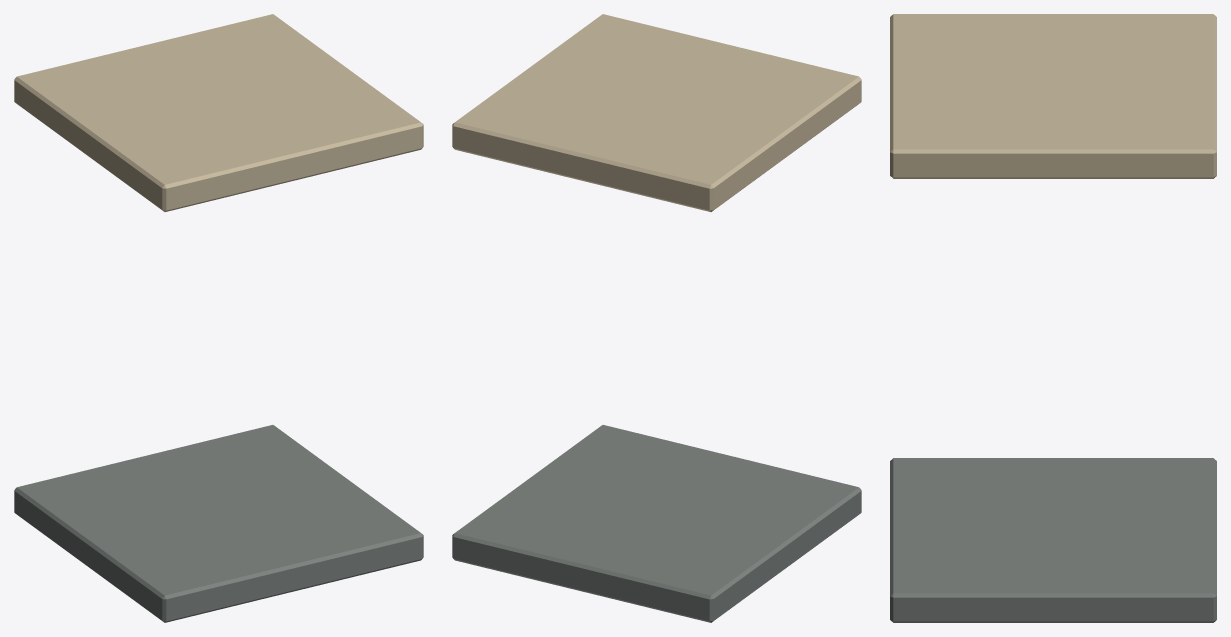
File: architecture-corridor-cross.lod0.glb
The picture shows the model from 3 angles, left to right: view 1: azimuth 30°, elevation 25°; view 2: azimuth 150°, elevation 25°; view 3: azimuth 270°, elevation 25°; orthographic projection. The views are drawn at different scales.
Visible parts, largest first — view 1: architecture-corridor-cross__body; view 2: architecture-corridor-cross__body; view 3: architecture-corridor-cross__body.
Boxes of the visible parts, x1=… form: architecture-corridor-cross__body: x1=14, y1=14, x2=423, y2=622; architecture-corridor-cross__body: x1=452, y1=14, x2=861, y2=622; architecture-corridor-cross__body: x1=890, y1=14, x2=1216, y2=622.
Size of the model in its own units: 2 by 3.2 by 2.
